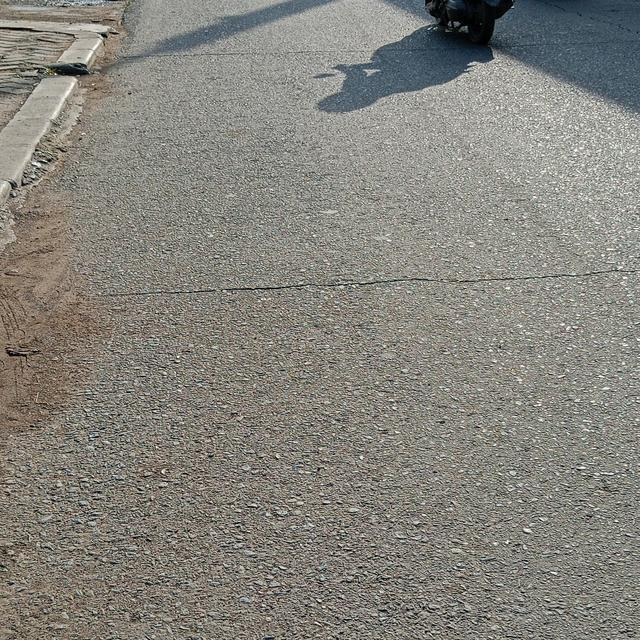Melintang: (81, 256, 640, 316)
